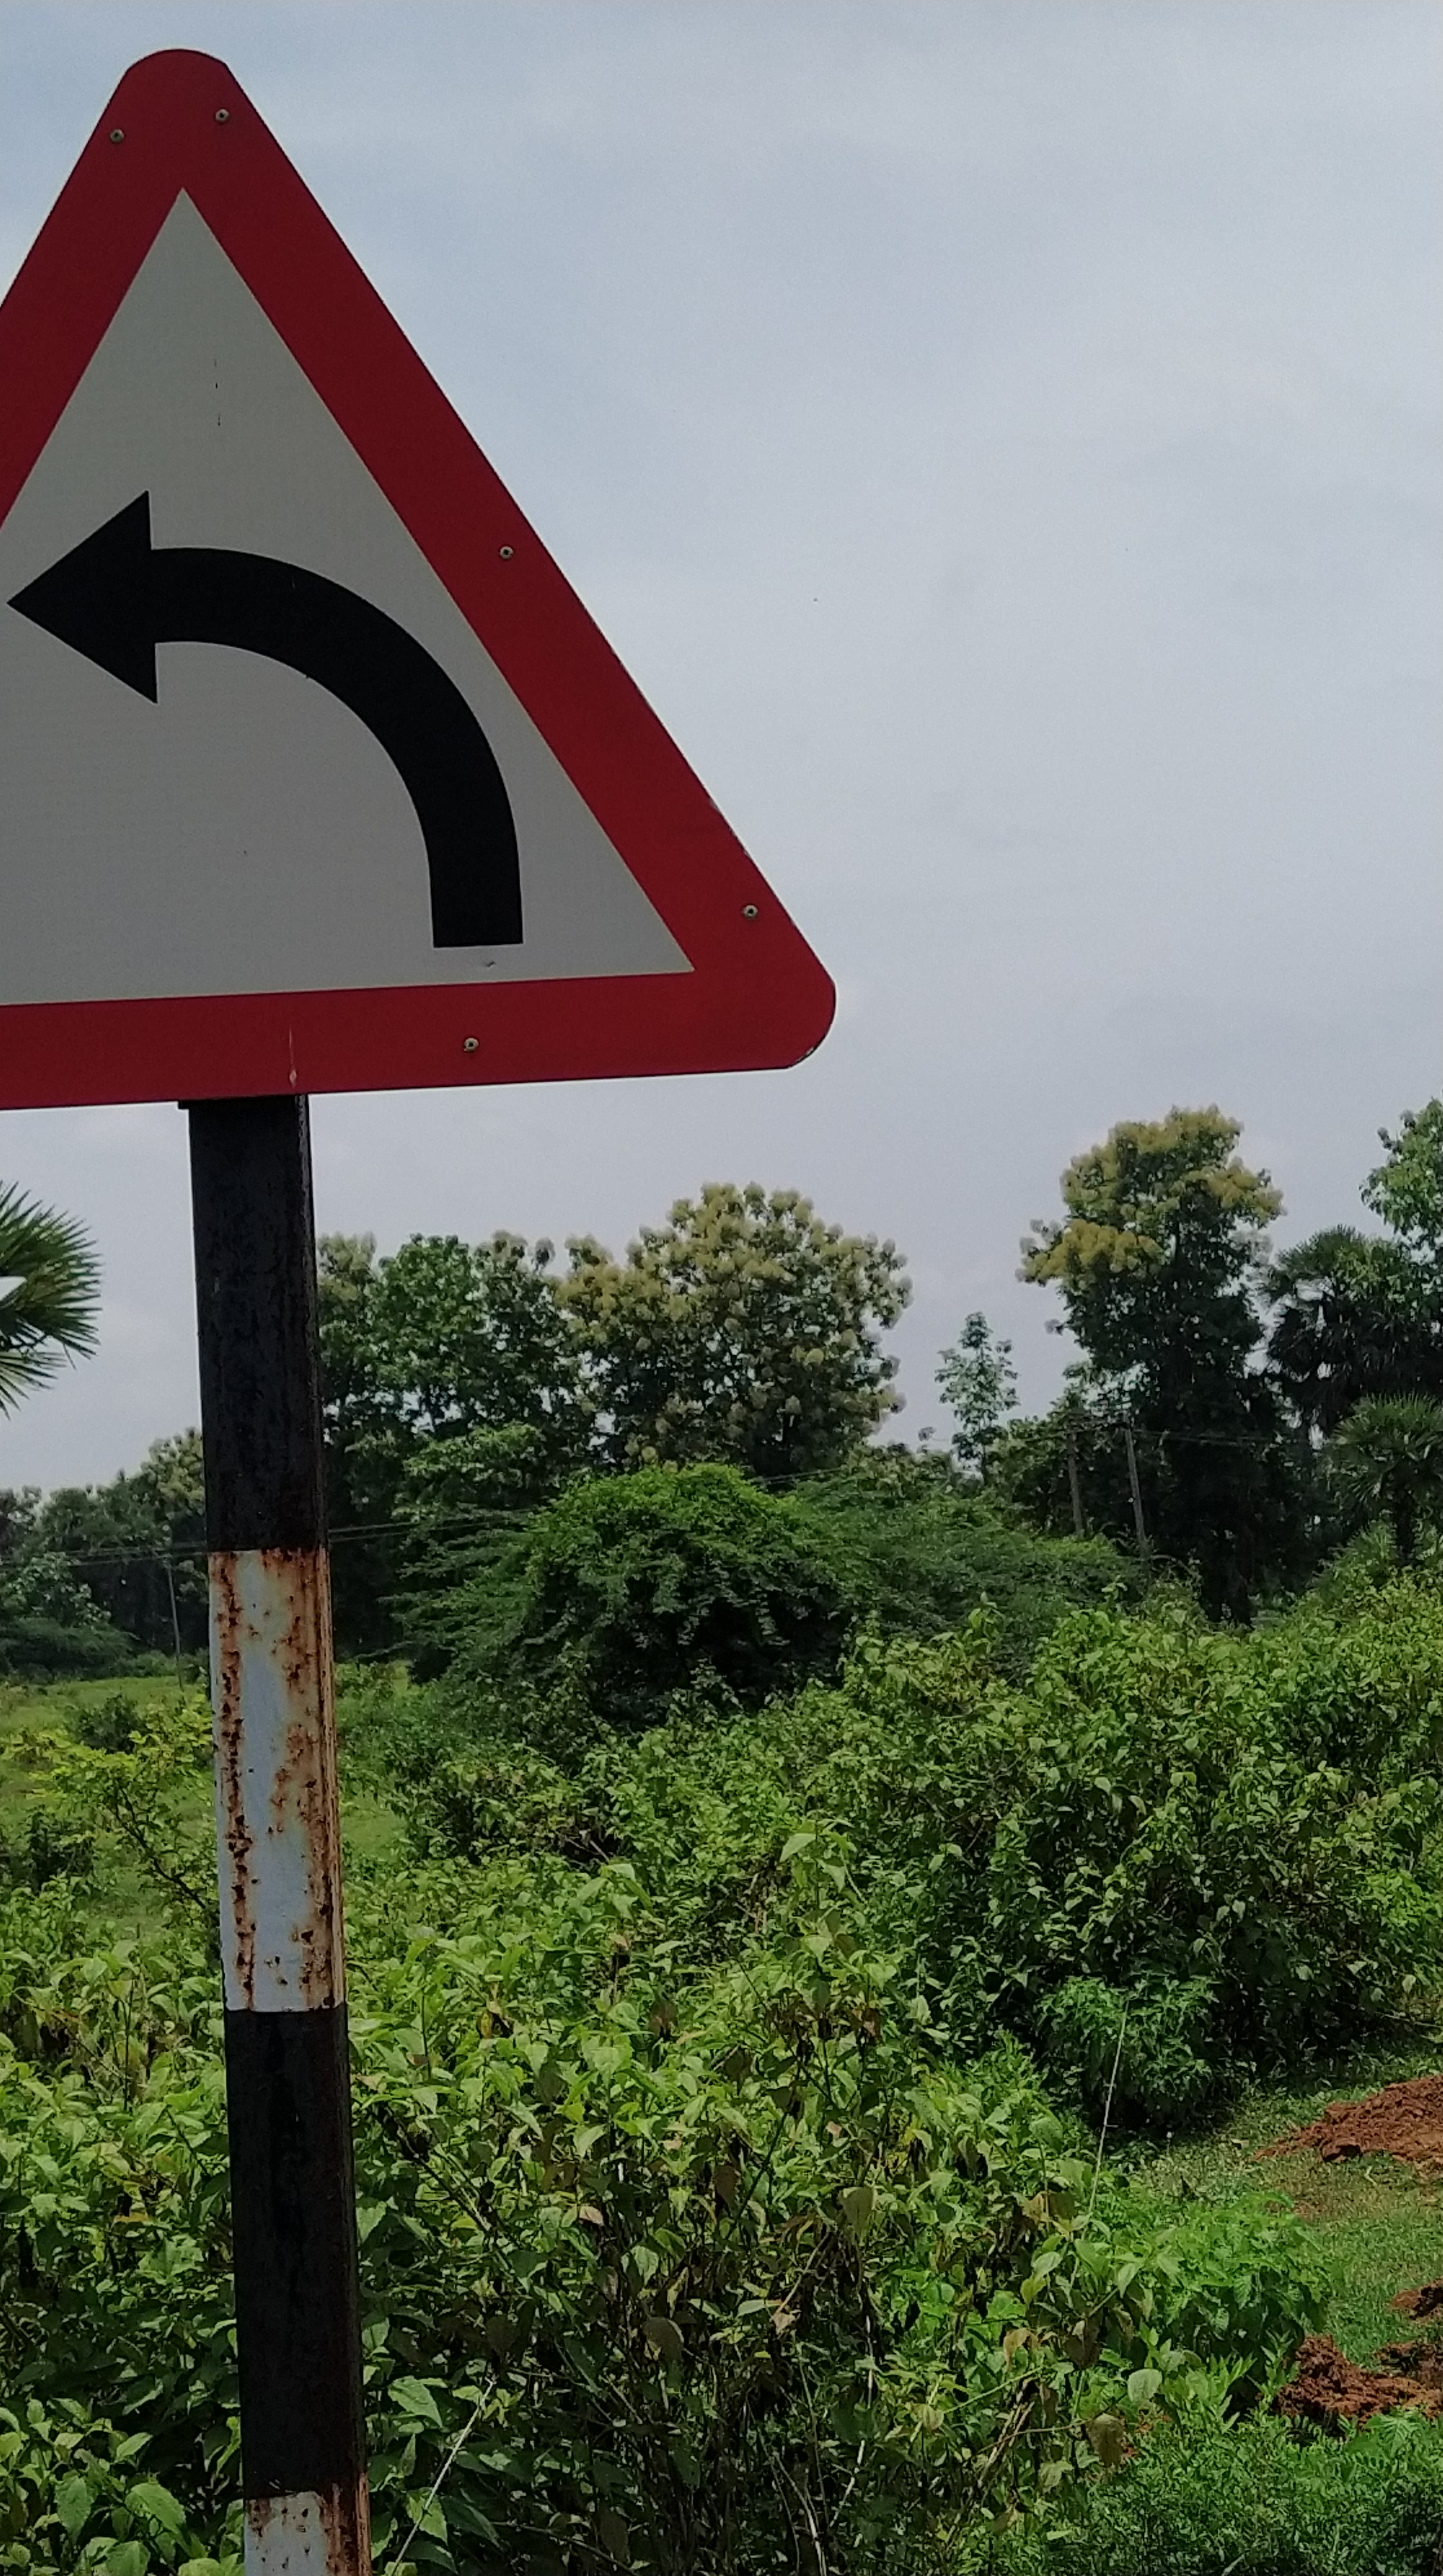Turn left: (7, 46, 857, 1145)
